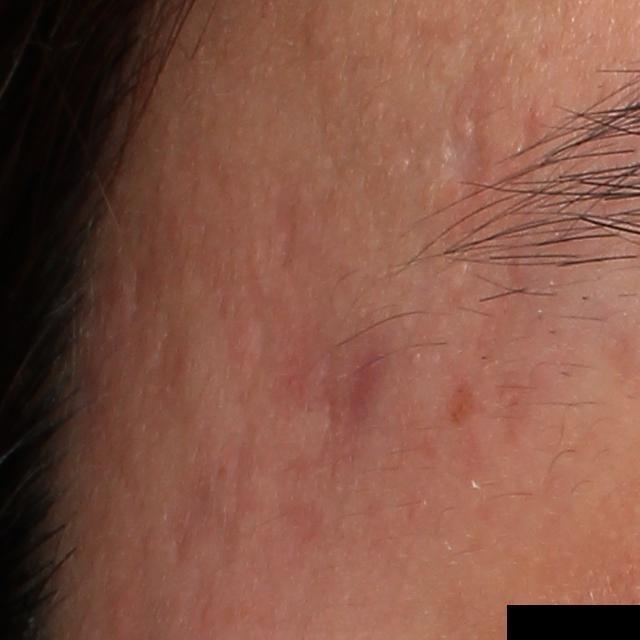atrophic_scar: (420, 101, 496, 211), (235, 305, 282, 391)
melasma: (447, 372, 489, 425)
